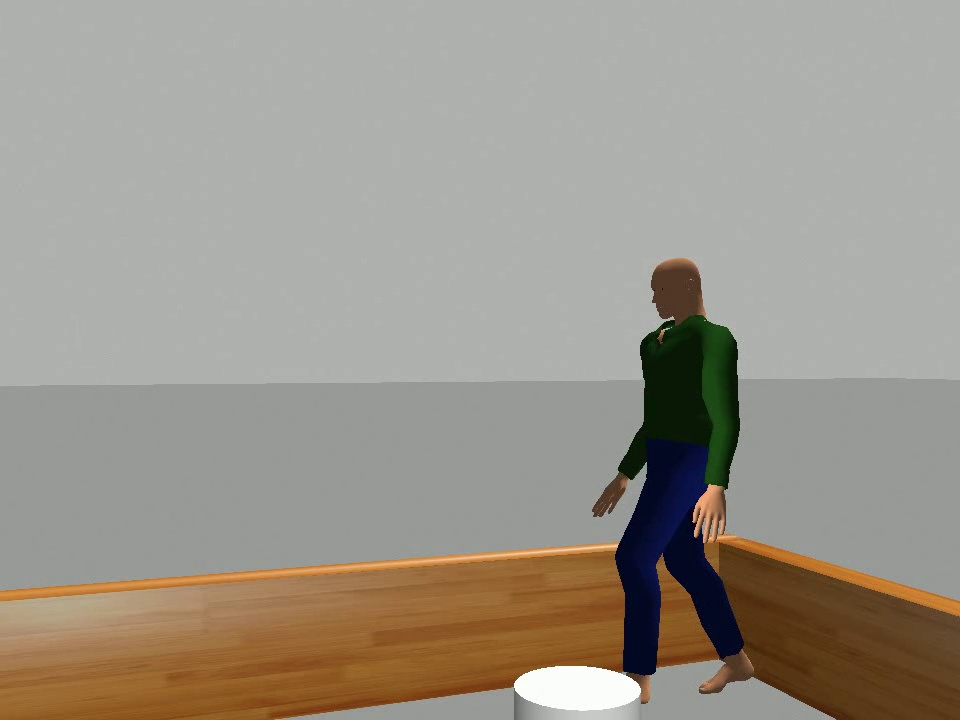person: (588, 254, 761, 697)
